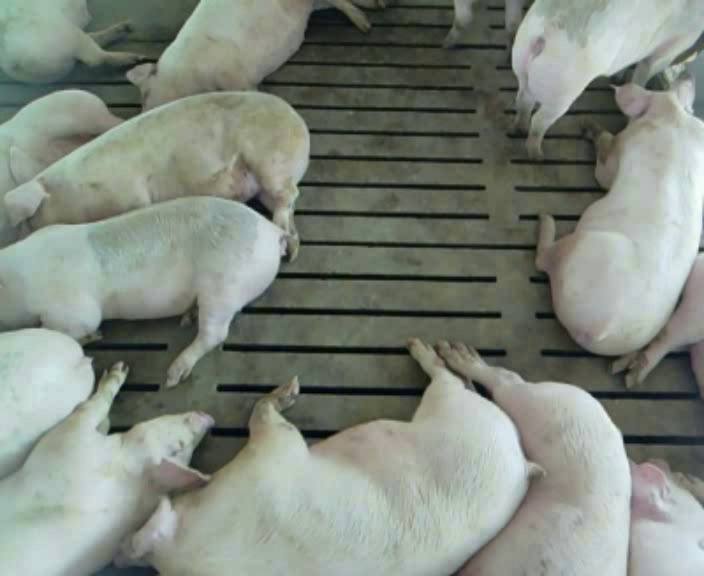pig: (119, 339, 538, 574), (0, 197, 284, 386), (5, 91, 308, 258), (536, 69, 703, 354), (0, 362, 213, 574), (438, 341, 629, 574), (512, 2, 703, 158), (127, 2, 368, 109), (0, 90, 120, 247), (0, 328, 93, 477), (613, 253, 703, 398), (628, 460, 703, 574)
